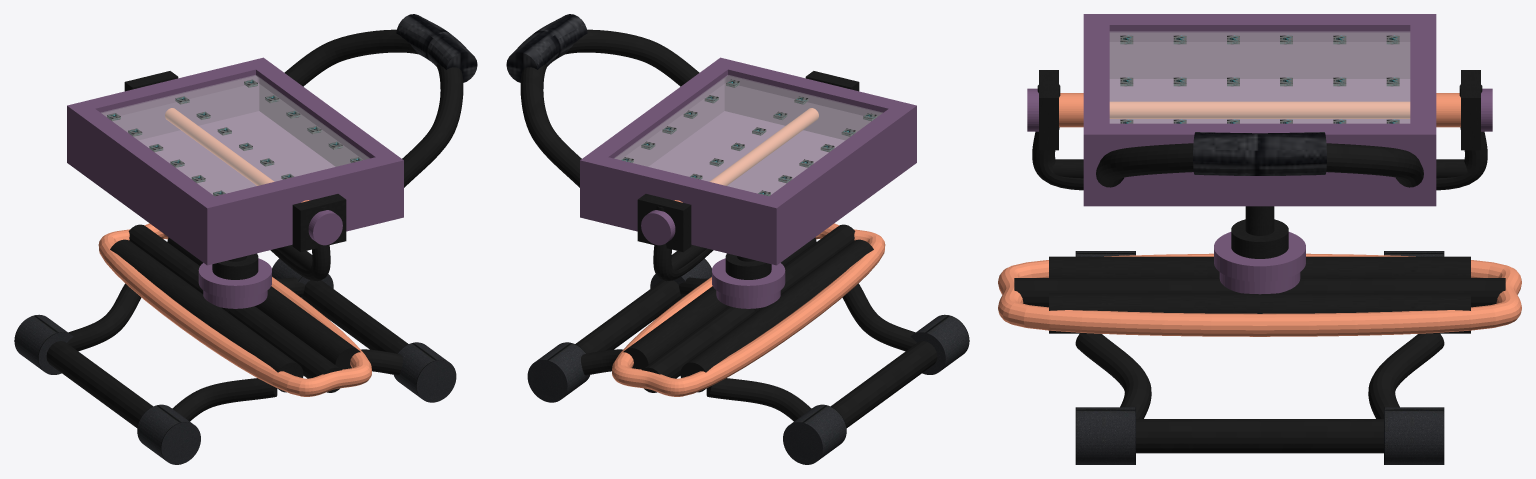
File: Equipment_LED_work_light__0668.glb
3 views of the same model, side by side, from view 1: azimuth 30°, elevation 25°; view 2: azimuth 150°, elevation 25°; view 3: azimuth 270°, elevation 25° (orthographic). The views are drawn at different scales.
Parts seen in each view (by area): view 1: light_head::led_glass_panel, light_head::housing_back, light_head::housing_wall_bottom, light_head::housing_wall_right, light_head::carry_handle, stand_frame::leg_pin_1, folding_leg_1::hinge_barrel, light_head::housing_wall_left, stand_frame::apex_crossbar, light_head::bezel_top, light_head::housing_wall_top, light_head::bezel_bottom (+24 smaller); view 2: light_head::led_glass_panel, light_head::housing_back, light_head::housing_wall_bottom, light_head::housing_wall_left, light_head::carry_handle, stand_frame::leg_pin_1, light_head::housing_wall_right, folding_leg_1::hinge_barrel, stand_frame::apex_crossbar, light_head::bezel_bottom, light_head::bezel_top, light_head::housing_wall_top (+24 smaller); view 3: light_head::led_glass_panel, light_head::housing_wall_bottom, stand_frame::leg_pin_0, light_head::housing_back, light_head::housing_wall_top, folding_leg_0::foot_bar, folding_leg_0::hinge_barrel, stand_frame::apex_crossbar, folding_leg_1::hinge_barrel, light_head::bezel_bottom, light_head::carry_handle, light_head::handle_grip (+23 smaller).
Boxes of the visible parts, x1,y1,x2,y2 form: light_head::led_glass_panel: (101,75,369,195); light_head::housing_back: (67,111,403,265); light_head::housing_wall_bottom: (67,109,217,262); light_head::housing_wall_right: (202,167,399,260); light_head::carry_handle: (284,29,463,187); stand_frame::leg_pin_1: (98,229,337,396); folding_leg_1::hinge_barrel: (110,239,303,392); light_head::housing_wall_left: (102,76,259,140); stand_frame::apex_crossbar: (128,224,341,392); light_head::bezel_top: (246,57,403,170); light_head::housing_wall_top: (259,78,403,216); light_head::bezel_bottom: (67,101,225,213); light_head::led_glass_panel: (614,75,882,195); light_head::housing_back: (580,111,916,265); light_head::housing_wall_bottom: (766,111,916,261); light_head::housing_wall_left: (580,165,776,261); light_head::carry_handle: (520,29,699,187); stand_frame::leg_pin_1: (646,229,885,396); light_head::housing_wall_right: (724,76,916,161); folding_leg_1::hinge_barrel: (680,239,873,392); stand_frame::apex_crossbar: (642,224,855,392); light_head::bezel_bottom: (758,101,916,214); light_head::bezel_top: (580,57,737,170); light_head::housing_wall_top: (580,78,724,215); light_head::led_glass_panel: (1110,31,1409,123); light_head::housing_wall_bottom: (1109,32,1410,78); stand_frame::leg_pin_0: (998,285,1521,336); light_head::housing_back: (1083,79,1436,206); light_head::housing_wall_top: (1083,138,1436,202); folding_leg_0::foot_bar: (1136,419,1383,453); folding_leg_0::hinge_barrel: (1049,293,1470,333); stand_frame::apex_crossbar: (1014,278,1505,307); folding_leg_1::hinge_barrel: (1049,256,1470,277); light_head::bezel_bottom: (1083,14,1436,32); light_head::carry_handle: (1096,143,1423,187); light_head::handle_grip: (1193,132,1326,175).
Size of the model in its own units: 0.3695 by 0.2866 by 0.3635.
Materials: 6 (4 with a texture image).
